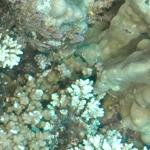alive: (4, 3, 147, 148)
